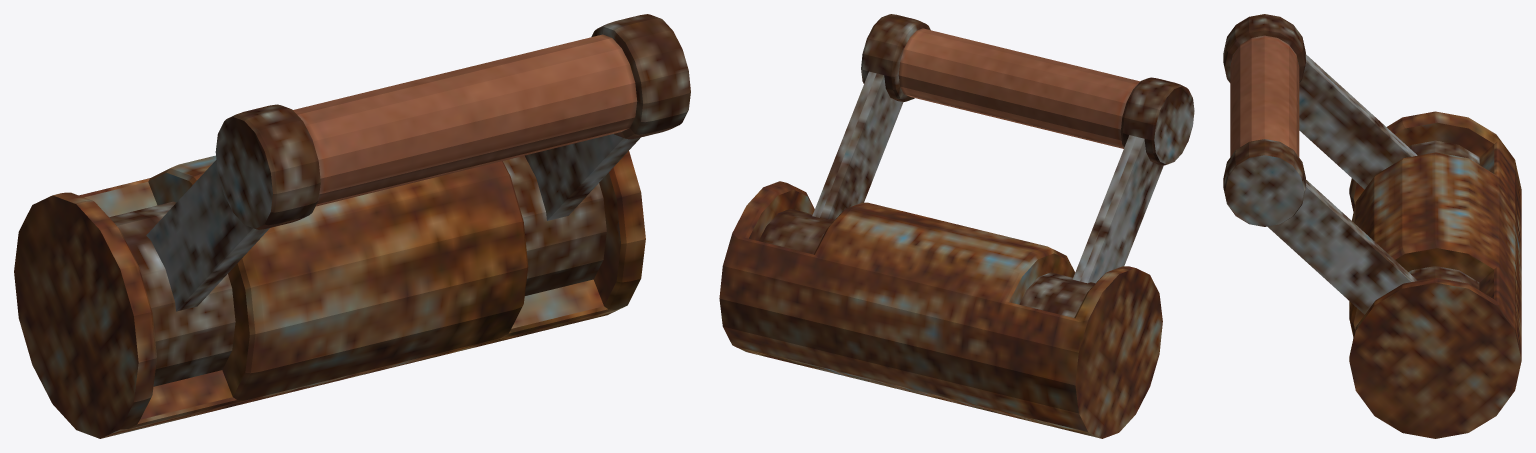
The model's file is Palanca principal.fbx.
3 views of the same model, side by side, from view 1: azimuth 30°, elevation 25°; view 2: azimuth 150°, elevation 25°; view 3: azimuth 270°, elevation 25° (orthographic). The views are drawn at different scales.
Parts seen in each view (by area): view 1: Base palanca, Palanca; view 2: Base palanca, Palanca; view 3: Base palanca, Palanca.
Part boxes in pixels (left/top/right/bottom): Base palanca: left=14, top=151, right=645, bottom=438; Palanca: left=109, top=14, right=690, bottom=386; Base palanca: left=719, top=181, right=1162, bottom=438; Palanca: left=759, top=14, right=1194, bottom=317; Base palanca: left=1349, top=111, right=1521, bottom=438; Palanca: left=1223, top=14, right=1479, bottom=314.
Size of the model in its own units: 23.5 by 17.3 by 17.3.
